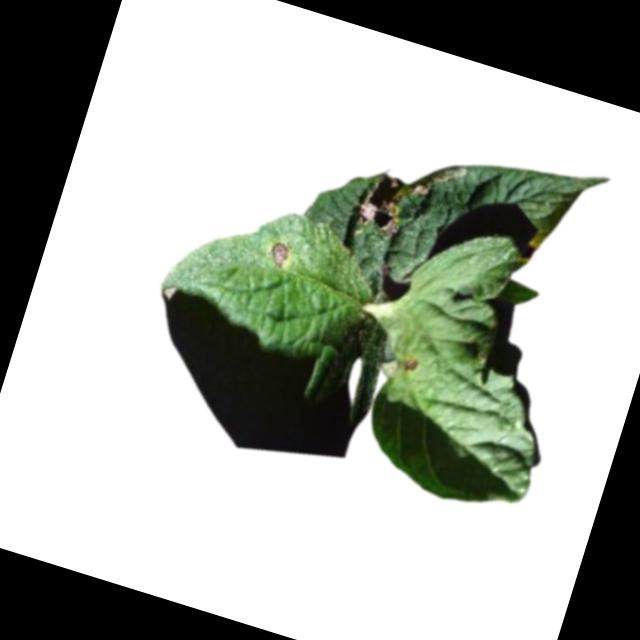Early_blight: (353, 166, 416, 239), (268, 240, 290, 267), (402, 353, 421, 372)
